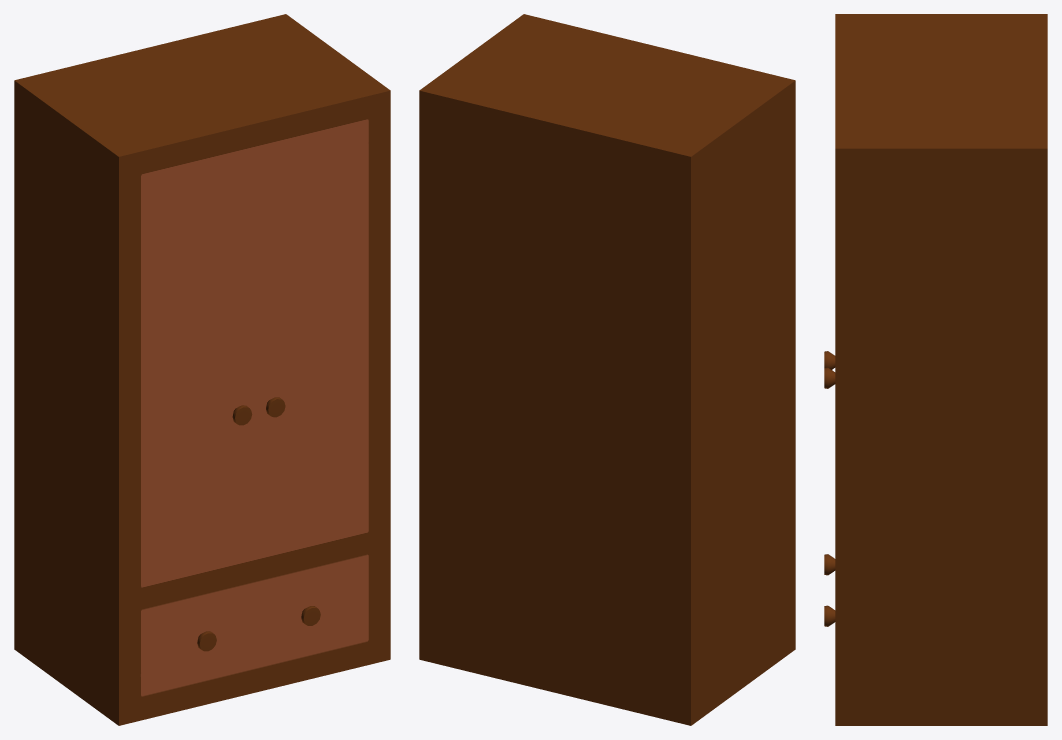
Rendered from closet2_wood.glb.
3 renders of one model, left to right at view 1: azimuth 30°, elevation 25°; view 2: azimuth 150°, elevation 25°; view 3: azimuth 270°, elevation 25°, orthographic.
Parts seen in each view (by area): view 1: Box002; view 2: Box002; view 3: Box002.
Boxes of the visible parts, x1,y1,x2,y2 form: Box002: (14, 14, 390, 725); Box002: (419, 14, 795, 725); Box002: (824, 14, 1047, 725).
Size of the model in its own units: 0.12 by 0.24 by 0.0842.
Materials: 1 (1 with a texture image).
